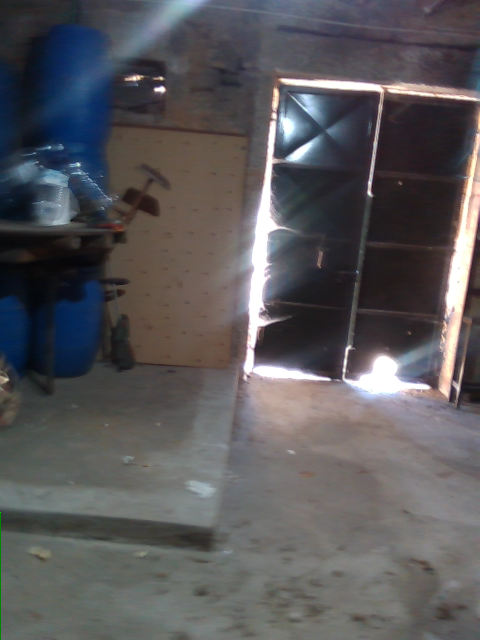closed: (245, 79, 477, 396)
